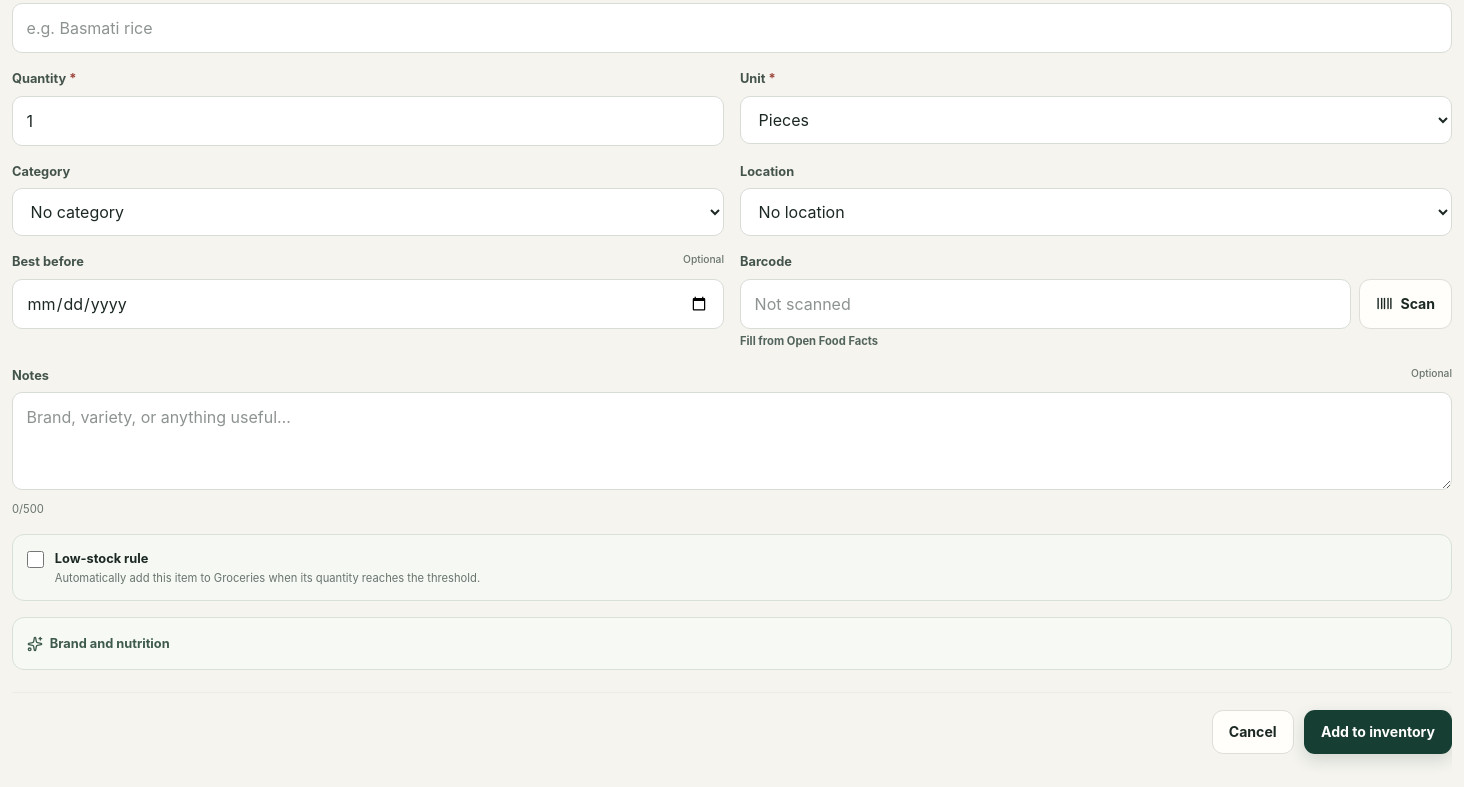
ItemForm › warns about duplicate names without blocking the form
The width and height of the screenshot is (1464, 787).
Step 1. Type " FLOUR " into the field labelled "Item name *" → (732, 28), box [12,3,1452,53]
(page scrolled)
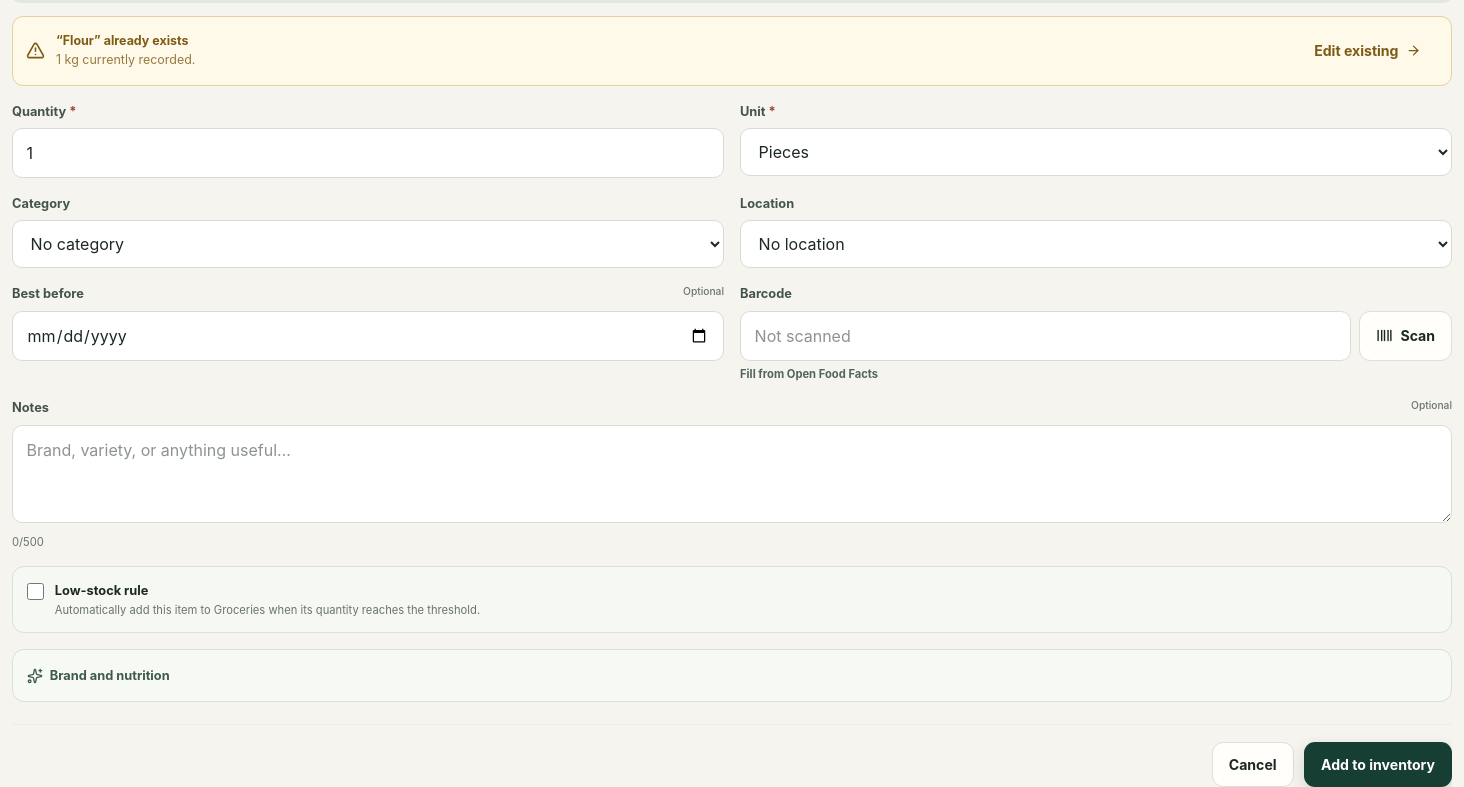
Check: the button "Add to inventory" is enabled, box [1304,742,1452,786]
Check: the text "“Flour” already exists" is shown, box [56,33,189,48]
